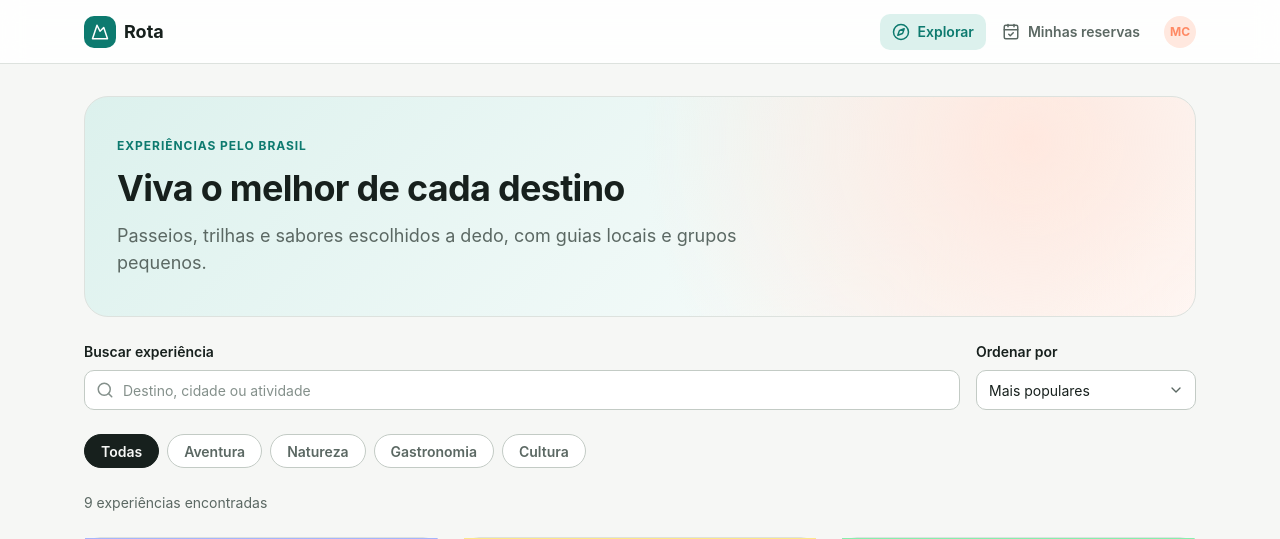
it: ExplorePage › filtra por categoria
Expected: the text "9 experiências encontradas" is shown, [84,492,267,513]
Click the button "Gastronomia" at (434, 451), box [374,434,494,468]
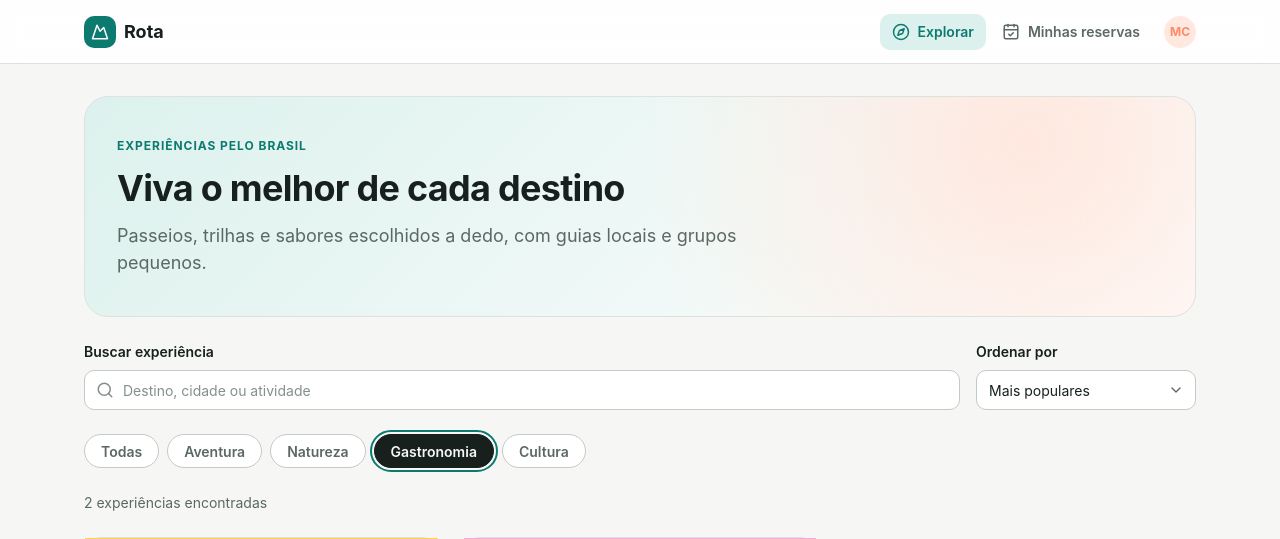
Result: the text "2 experiências encontradas" is shown at [84,492,267,513]
